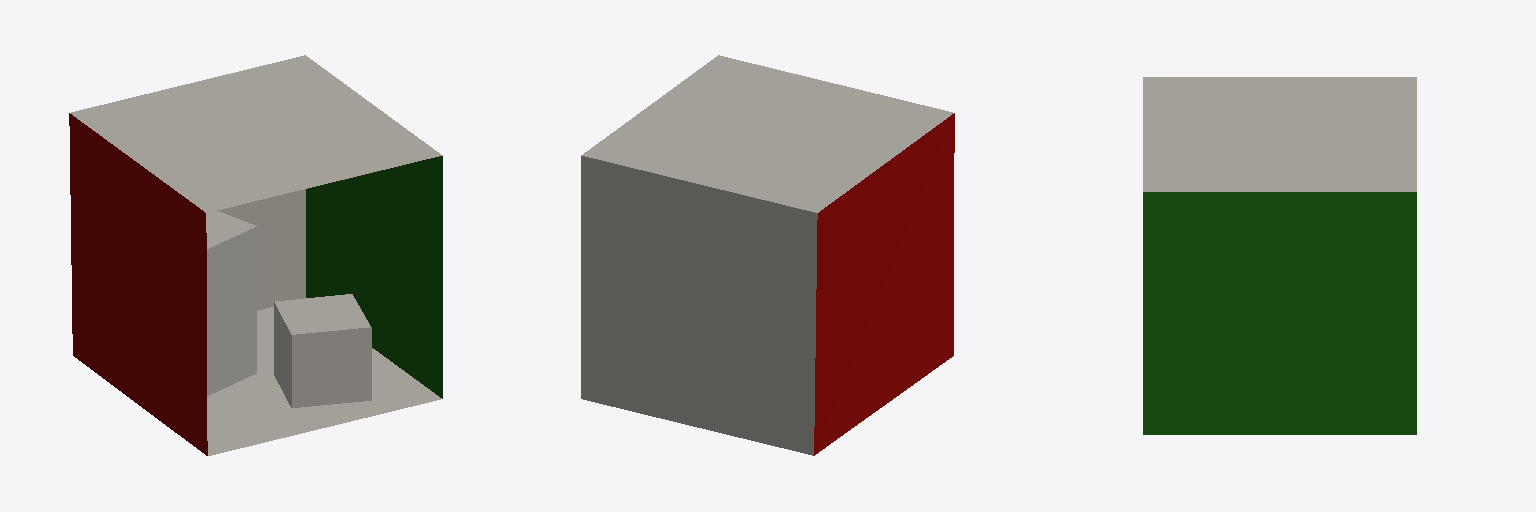
Rendered from cornellbox_original.obj.
The picture shows the model from 3 angles: view 1: azimuth 30°, elevation 25°; view 2: azimuth 150°, elevation 25°; view 3: azimuth 270°, elevation 25°; orthographic projection.
Parts seen in each view (by area): view 1: leftWall, ceiling, rightWall, floor, shortBox, backWall; view 2: backWall, leftWall, ceiling; view 3: rightWall, ceiling.
Boxes of the visible parts, <box> form: leftWall: <box>69,113,371,455</box>; ceiling: <box>70,55,442,212</box>; rightWall: <box>306,156,442,398</box>; floor: <box>207,307,441,455</box>; shortBox: <box>206,211,256,395</box>; backWall: <box>217,189,305,310</box>; backWall: <box>581,156,817,455</box>; leftWall: <box>814,113,954,455</box>; ceiling: <box>581,55,953,212</box>; rightWall: <box>1143,192,1416,434</box>; ceiling: <box>1143,77,1416,191</box>.
Size of the model in its own units: 2.02 by 1.99 by 2.03.